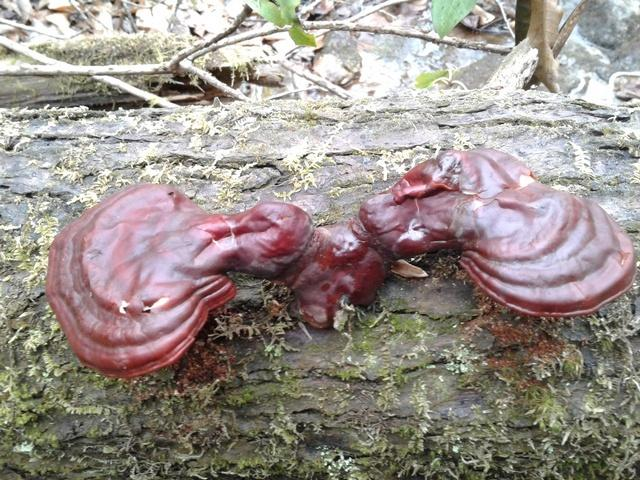Non-edible Mushroom: (44, 181, 313, 379), (357, 146, 636, 318)
